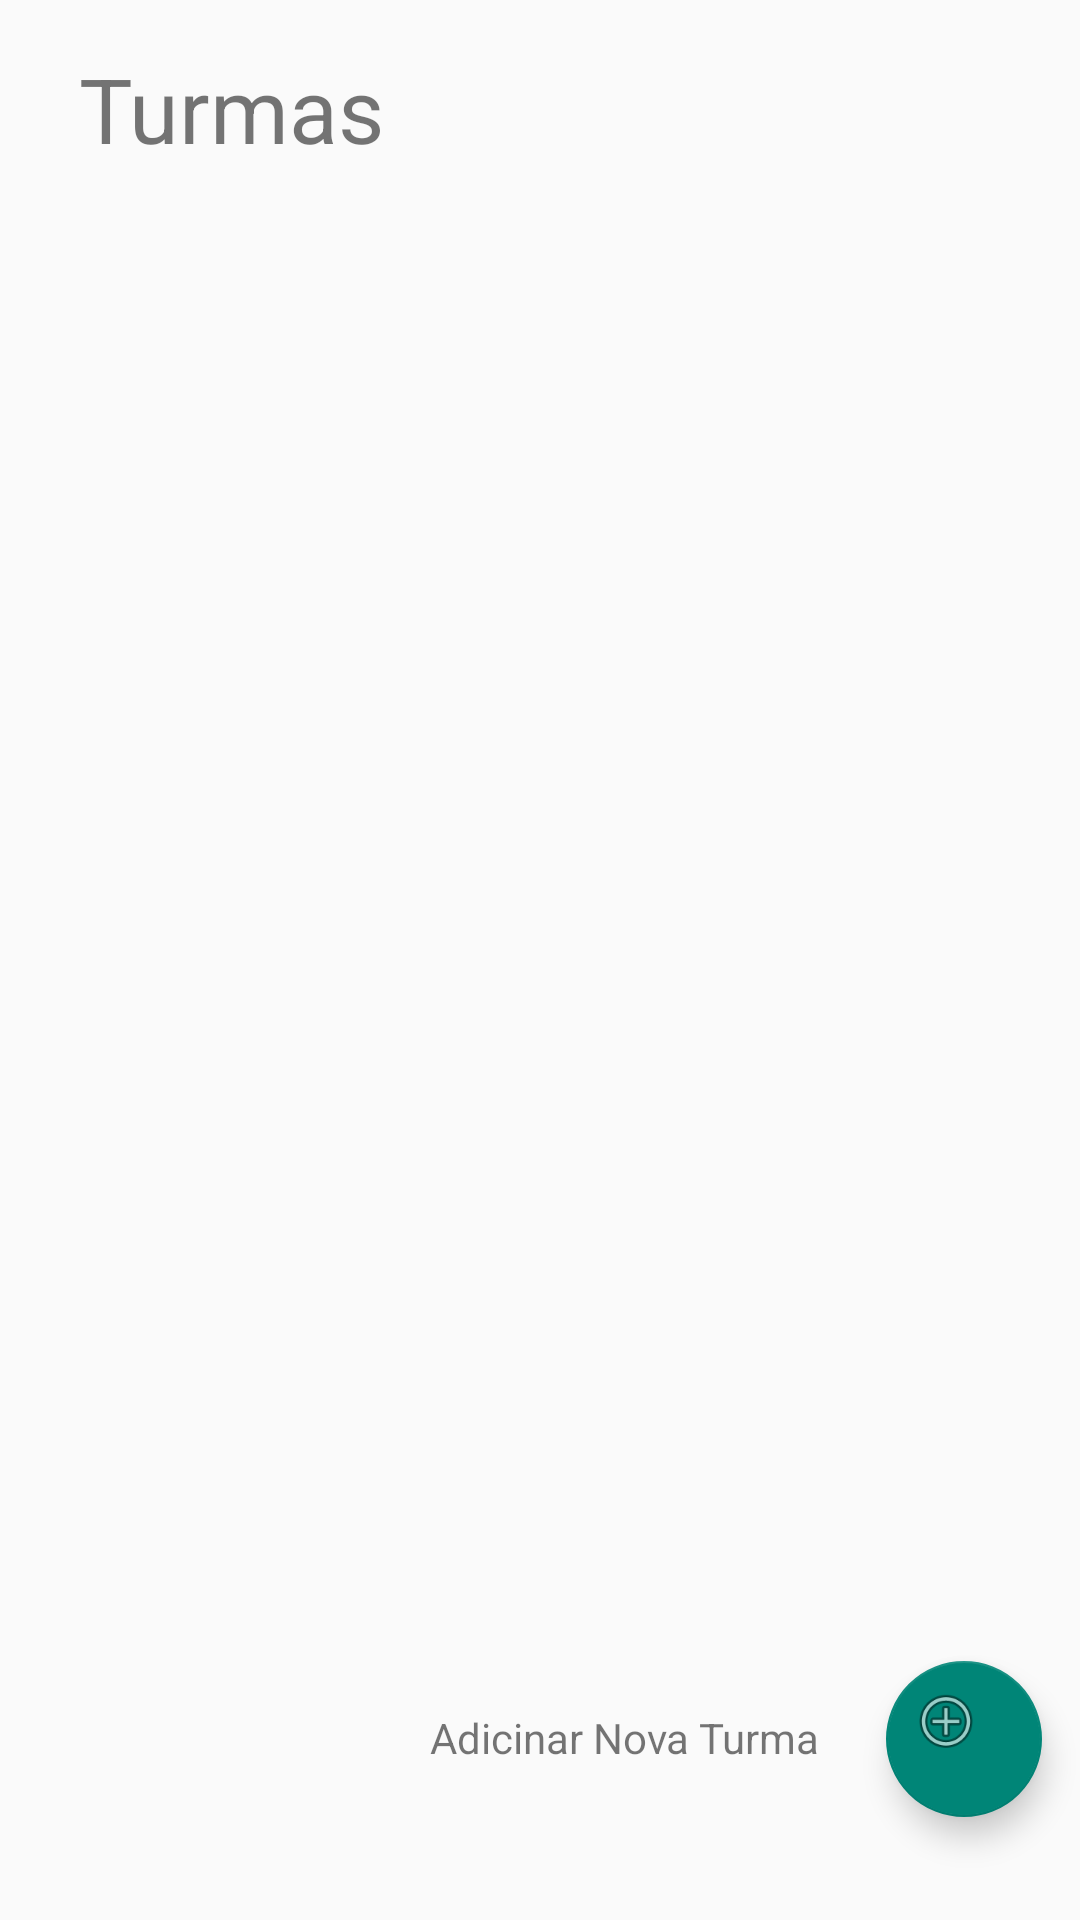

Icon bounding boxes for this 1080px×1920px phone screenshot, format Rect(x1, y1, x2, y2):
add: Rect(886, 1661, 1042, 1817)
